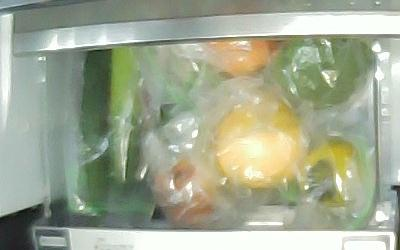apple_vinyl: (154, 157, 216, 223)
broccoli_vinyl: (270, 38, 378, 112)
cucumber_vinyl: (78, 49, 112, 218), (108, 46, 140, 206)
grapefruit_vinyl: (215, 101, 308, 187)
peach_vinyl: (203, 39, 279, 76)
persimmon_vinyl: (301, 139, 360, 208)
